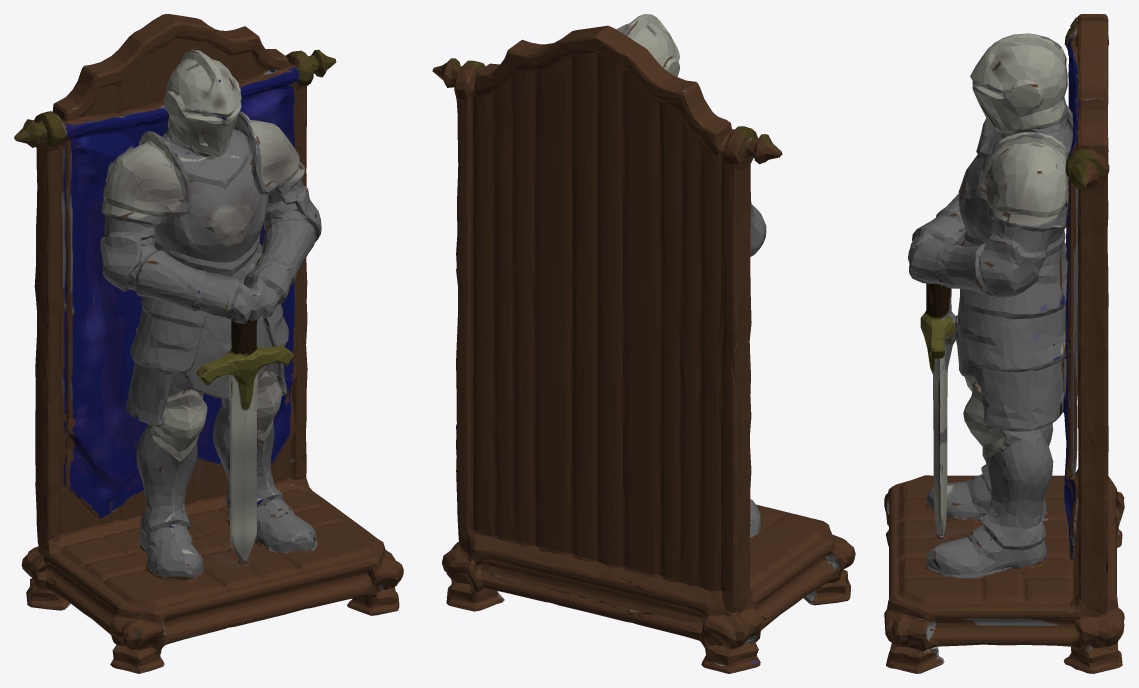
The model's file is armadura.glb.
The picture shows the model from 3 angles, left to right: view 1: azimuth 30°, elevation 25°; view 2: azimuth 150°, elevation 25°; view 3: azimuth 270°, elevation 25°; orthographic projection. The views are drawn at different scales.
Visible parts, largest first — view 1: tmp857fiu1y.ply; view 2: tmp857fiu1y.ply; view 3: tmp857fiu1y.ply.
Boxes of the visible parts, <box> form: tmp857fiu1y.ply: <box>14,14,403,673</box>; tmp857fiu1y.ply: <box>432,14,855,673</box>; tmp857fiu1y.ply: <box>884,14,1124,673</box>.
Size of the model in its own units: 1.19 by 1.96 by 0.7373.
1 material, 1 textured.
